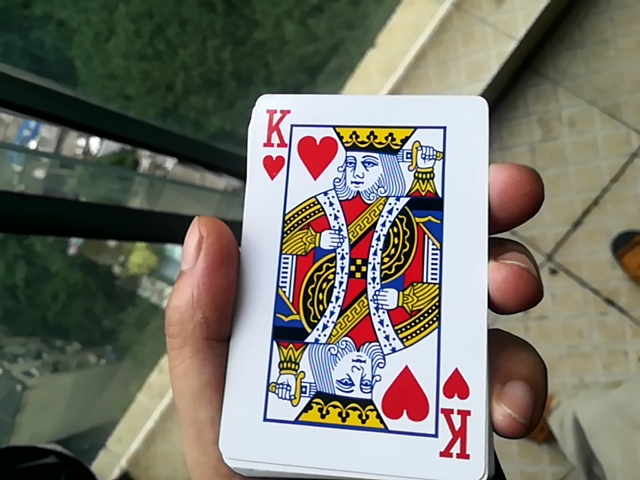hx k: (217, 81, 474, 480)
